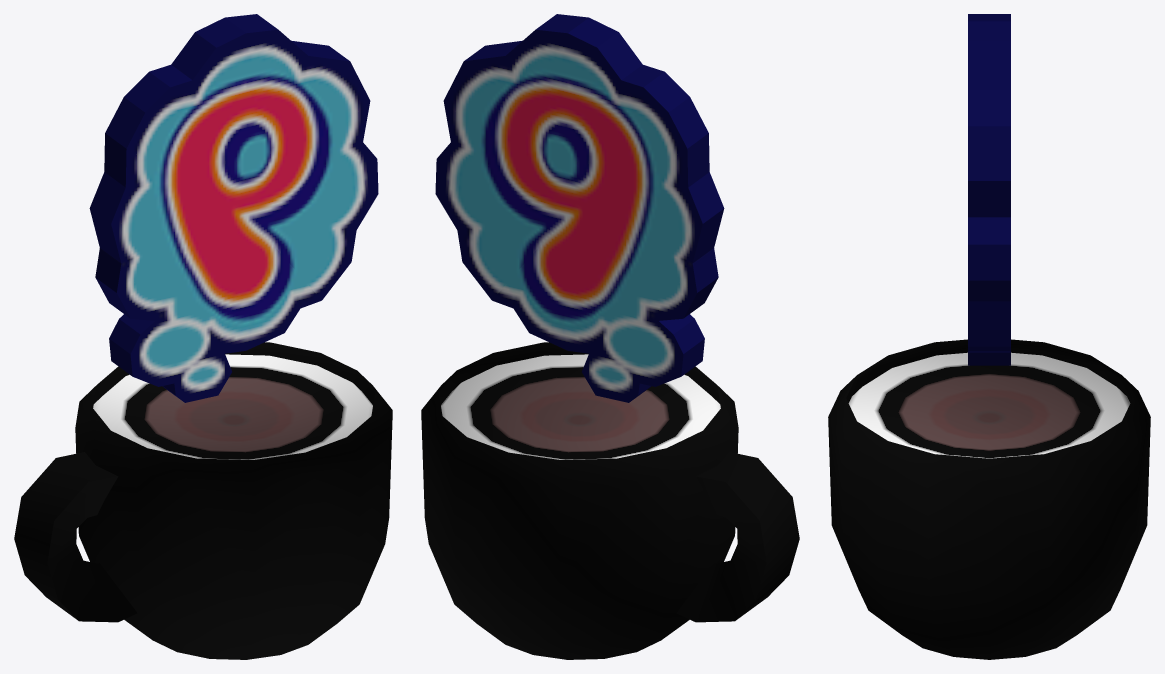
File: popn9.ico.obj
3 views of the same model, side by side, from view 1: azimuth 30°, elevation 25°; view 2: azimuth 150°, elevation 25°; view 3: azimuth 270°, elevation 25° (orthographic).
Bounding box in the file's own units: 2.89 × 4.8 × 2.34.
1 material, 1 textured.
